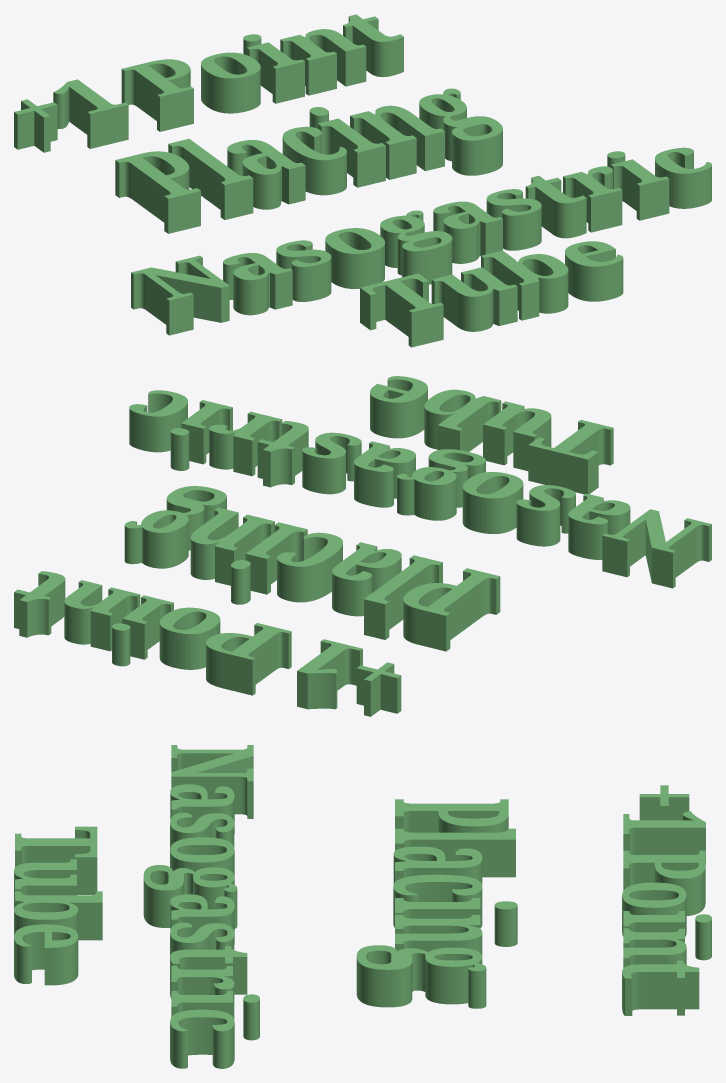
File: posnaso.gltf
3 renders of one model, top to bottom at view 1: azimuth 30°, elevation 25°; view 2: azimuth 150°, elevation 25°; view 3: azimuth 270°, elevation 25°, orthographic. The views are drawn at different scales.
Parts seen in each view (by area): view 1: Mesh_Mesh_head_geo001_lambert2SG001; view 2: Mesh_Mesh_head_geo001_lambert2SG001; view 3: Mesh_Mesh_head_geo001_lambert2SG001.
Part boxes in pixels (<box>): Mesh_Mesh_head_geo001_lambert2SG001: <box>14,14,711,347</box>; Mesh_Mesh_head_geo001_lambert2SG001: <box>14,376,711,716</box>; Mesh_Mesh_head_geo001_lambert2SG001: <box>14,745,711,1068</box>.
Size of the model in its own units: 163 by 10 by 168.
